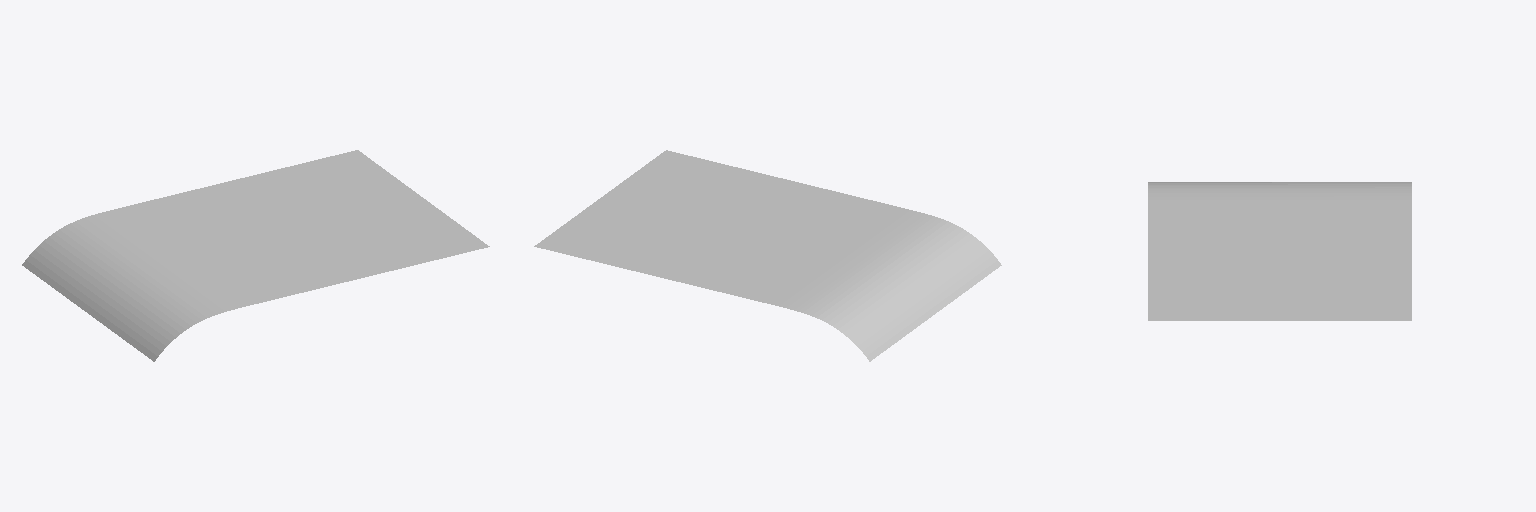
Rendered from CurvePaper_000064.obj.
The picture shows the model from 3 angles: view 1: azimuth 30°, elevation 25°; view 2: azimuth 150°, elevation 25°; view 3: azimuth 270°, elevation 25°; orthographic projection.
Parts seen in each view (by area): view 1: Plane; view 2: Plane; view 3: Plane.
Boxes of the visible parts, <box> form: Plane: <box>22,150,489,361</box>; Plane: <box>534,150,1001,361</box>; Plane: <box>1148,182,1411,320</box>.
Bounding box in the file's own units: 3.32 × 0.3166 × 2.26.